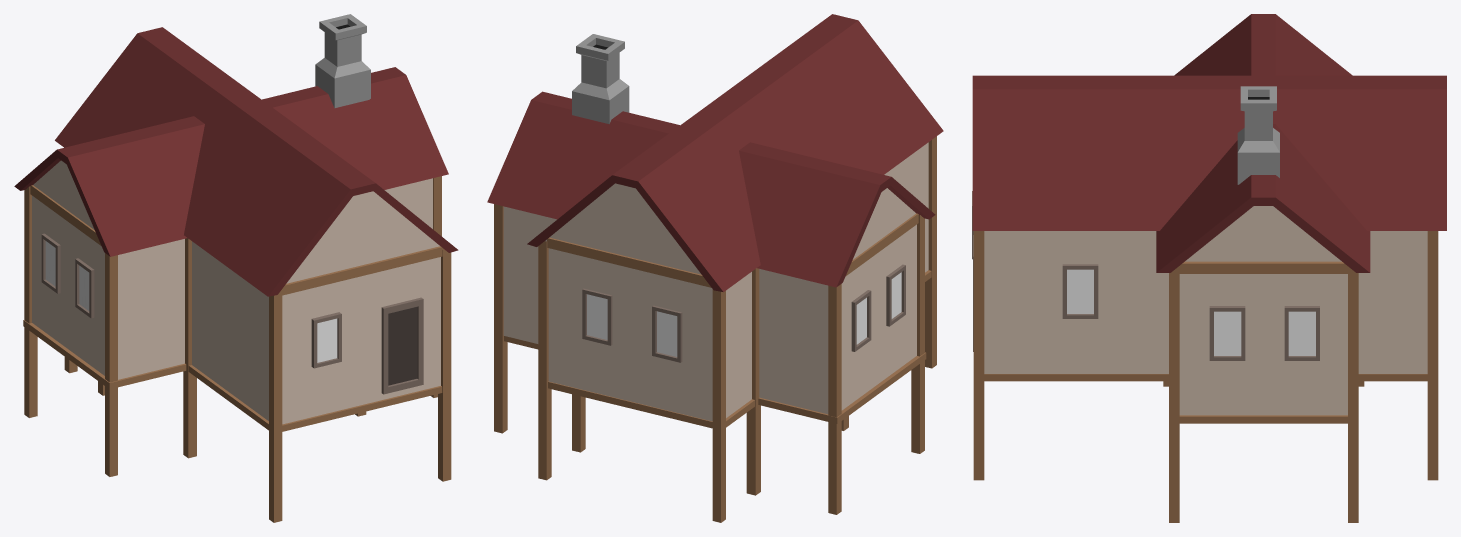
Rendered from M_House_Building_4.fbx.
3 renders of one model, left to right at view 1: azimuth 30°, elevation 25°; view 2: azimuth 150°, elevation 25°; view 3: azimuth 270°, elevation 25°, orthographic. The views are drawn at different scales.
Parts seen in each view (by area): view 1: M_House_Building_4; view 2: M_House_Building_4; view 3: M_House_Building_4.
Part boxes in pixels (x1,y1,x2,y2): M_House_Building_4: (14, 14, 458, 522); M_House_Building_4: (487, 14, 943, 522); M_House_Building_4: (972, 14, 1446, 522).
Size of the model in its own units: 792 by 798 by 866.
